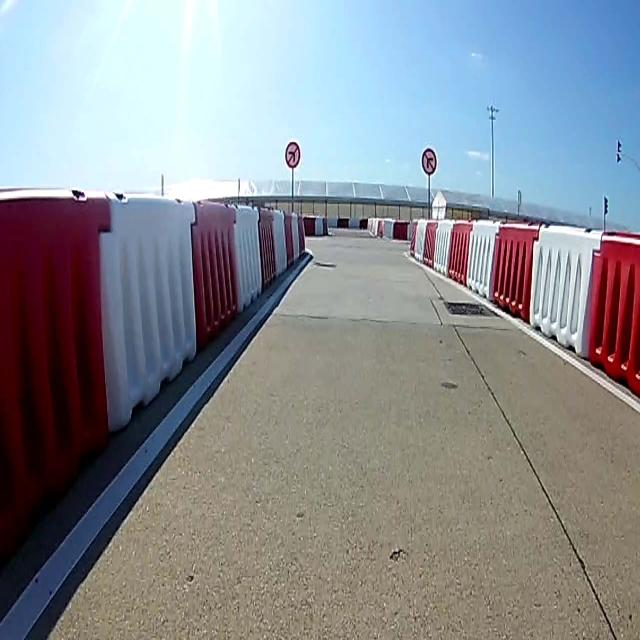sagadonulmez: (422, 144, 436, 177)
soladonulmez: (285, 138, 301, 170)
